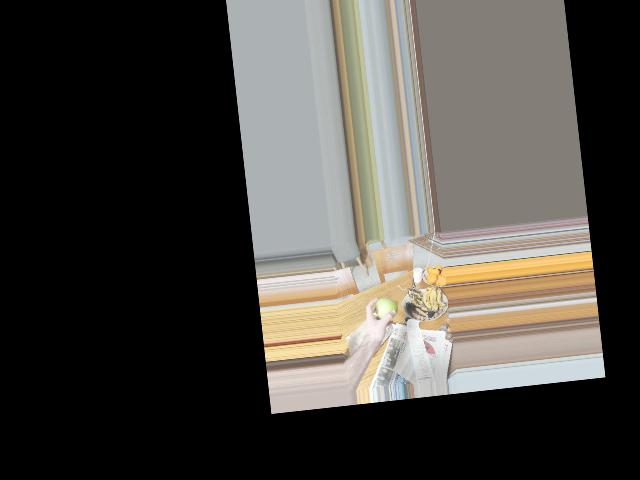apple: (374, 295, 397, 323)
